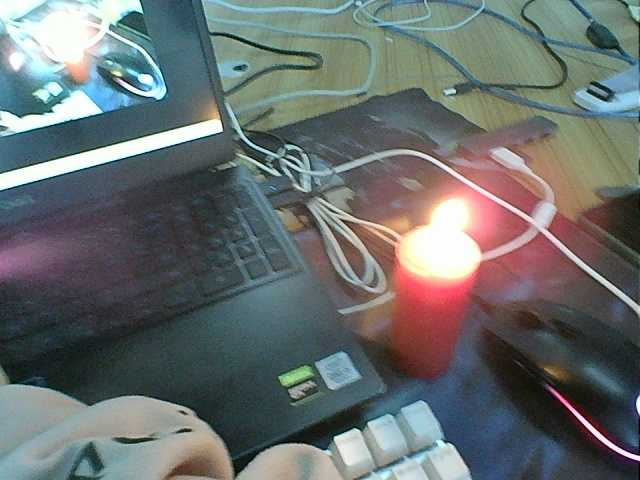candle: (383, 231, 484, 384), (55, 61, 107, 88)
fire: (406, 191, 476, 270), (44, 21, 98, 67)
